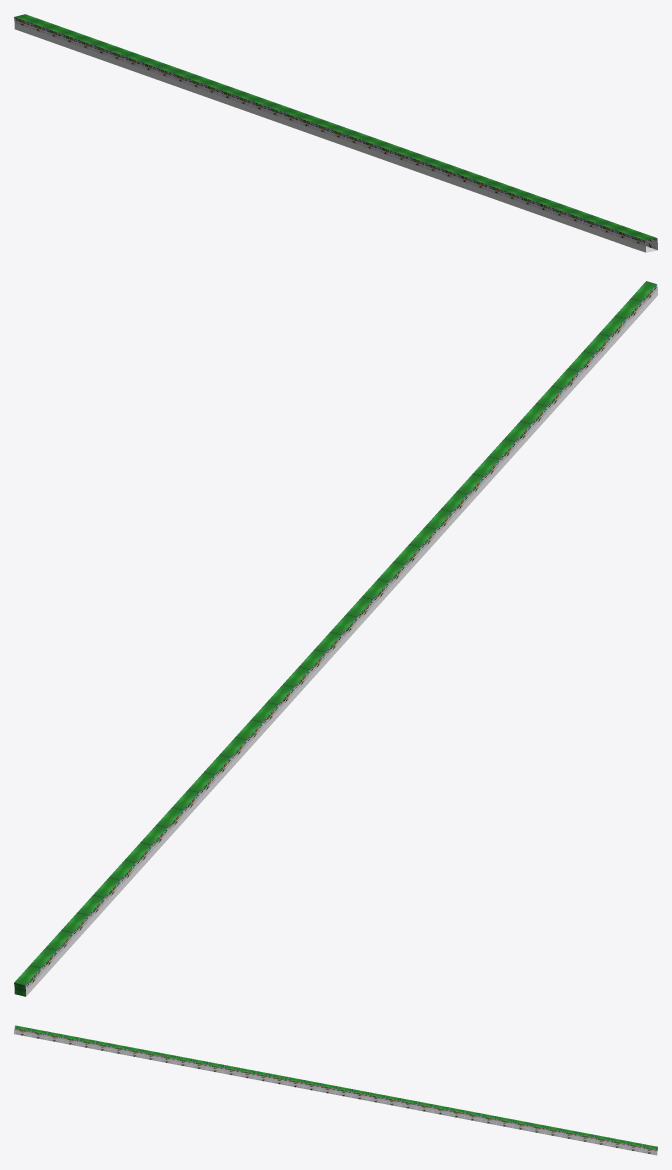
File: CourseAki_Wall_L_10.fbx
3 renders of one model, top to bottom at view 1: azimuth 30°, elevation 25°; view 2: azimuth 150°, elevation 25°; view 3: azimuth 270°, elevation 25°, orthographic. The views are drawn at different scales.
Visible parts, largest first — view 1: polySurface287; view 2: polySurface287; view 3: polySurface287.
Boxes of the visible parts, bbox=[...] form: polySurface287: bbox=[14, 14, 657, 252]; polySurface287: bbox=[14, 281, 657, 996]; polySurface287: bbox=[14, 1025, 657, 1155].
Bounding box in the file's own units: 2.03 × 41.97 × 192.
1 material, 1 textured.
